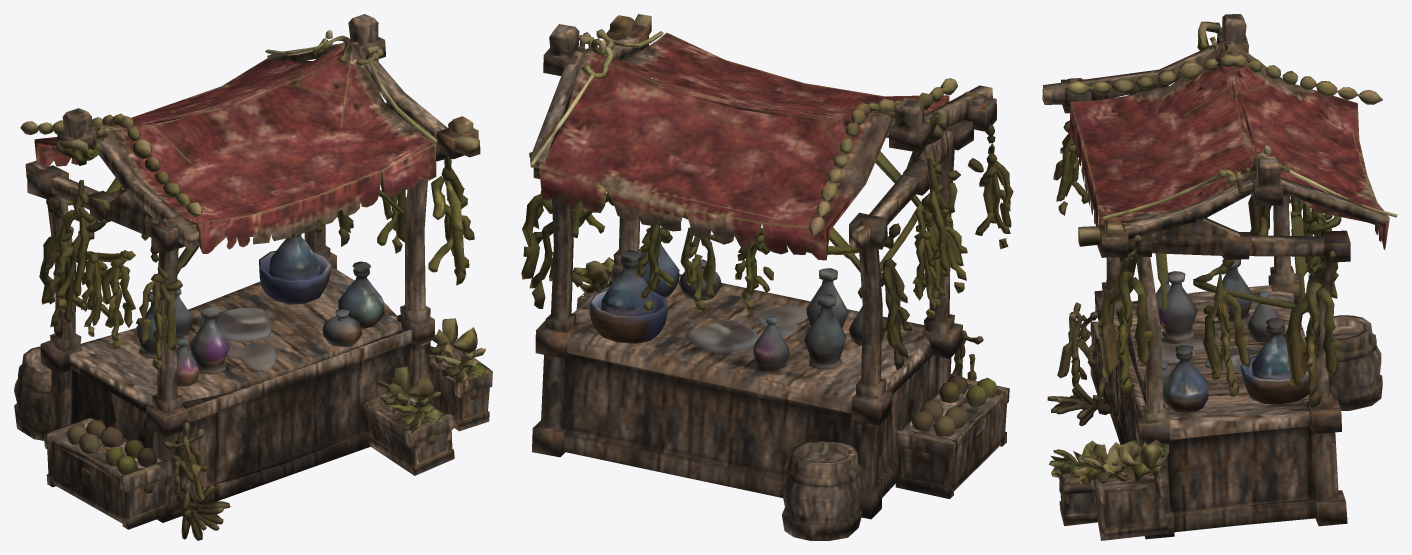
The model's file is potion.glb.
3 views of the same model, side by side, from view 1: azimuth 30°, elevation 25°; view 2: azimuth 150°, elevation 25°; view 3: azimuth 270°, elevation 25° (orthographic). The views are drawn at different scales.
Visible parts, largest first — view 1: market_stall_potion; view 2: market_stall_potion; view 3: market_stall_potion.
Boxes of the visible parts, bbox=[...] form: market_stall_potion: bbox=[14, 14, 492, 540]; market_stall_potion: bbox=[521, 14, 1013, 540]; market_stall_potion: bbox=[1042, 14, 1397, 540].
Bounding box in the file's own units: 3 × 2.79 × 2.32.
Materials: 1 (1 with a texture image).
